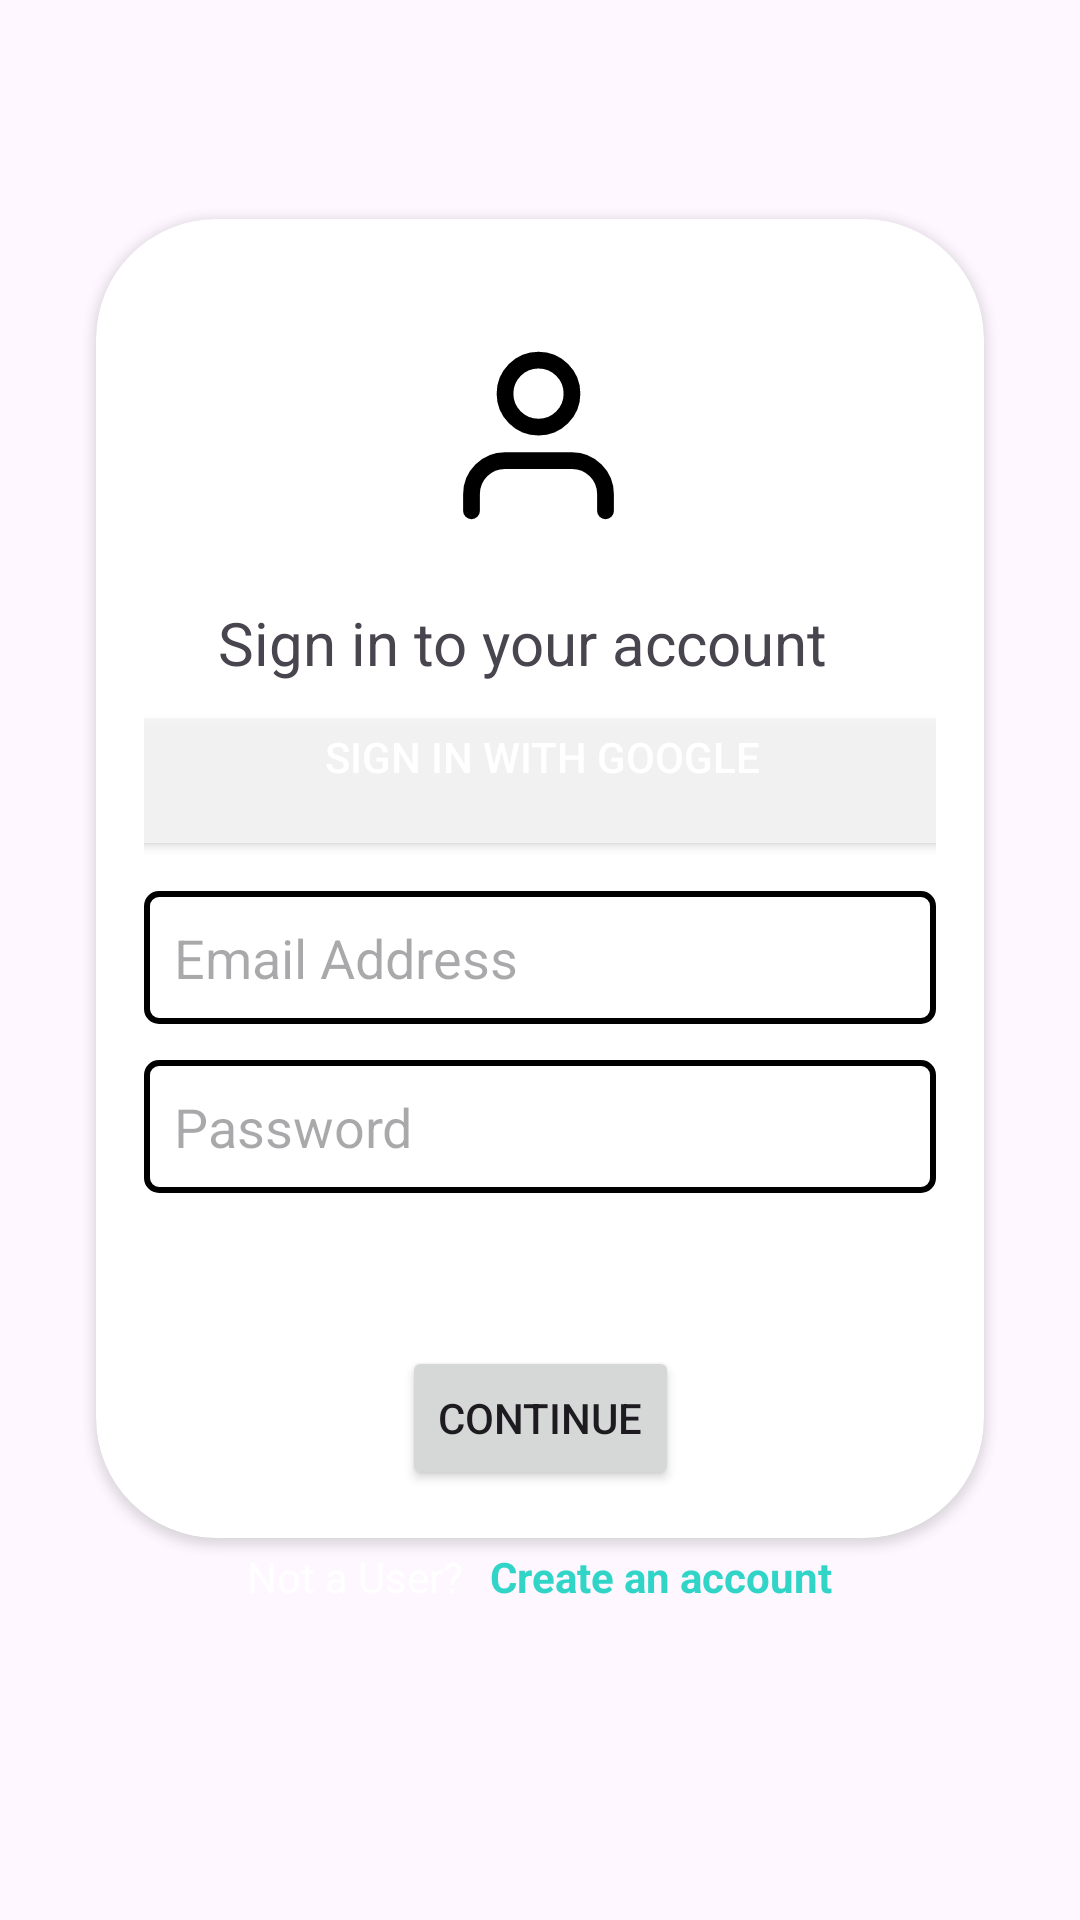

Named icons in this screenshot (1080×1920) and their centers, [x,y]:
user: [538,435]
